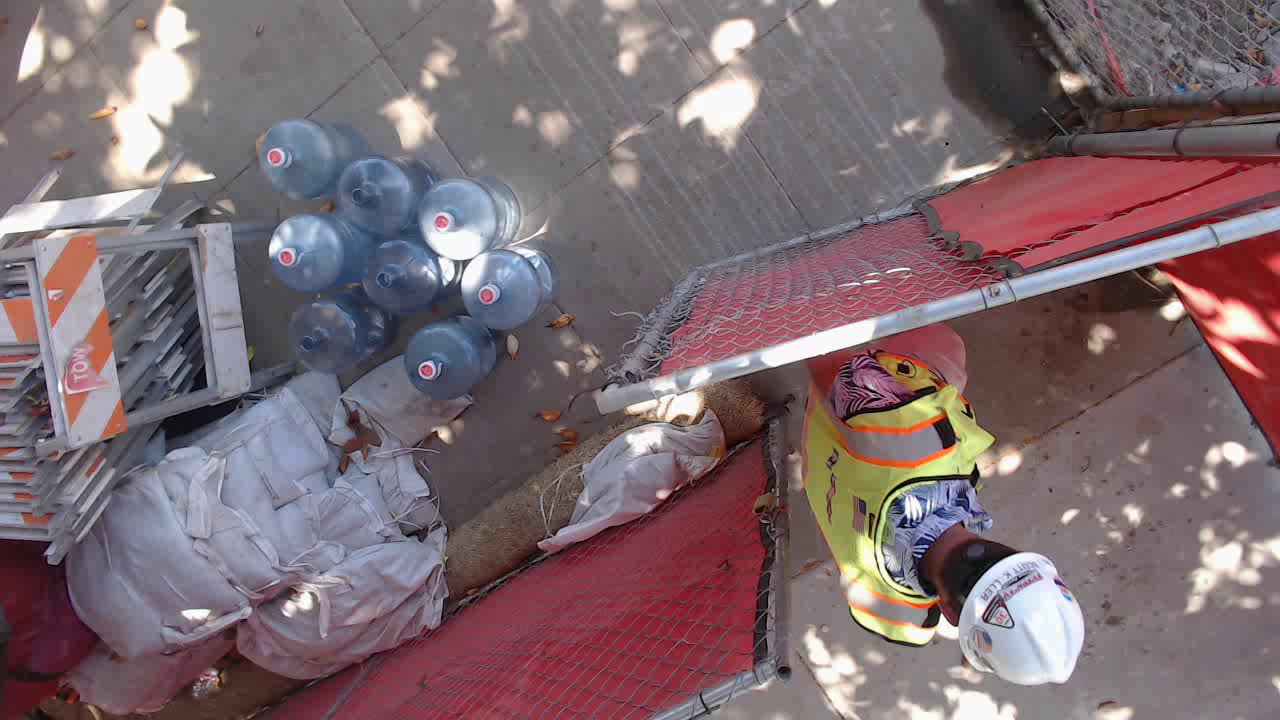hardhat: (955, 548, 1082, 688)
safetyvest: (800, 352, 994, 643)
